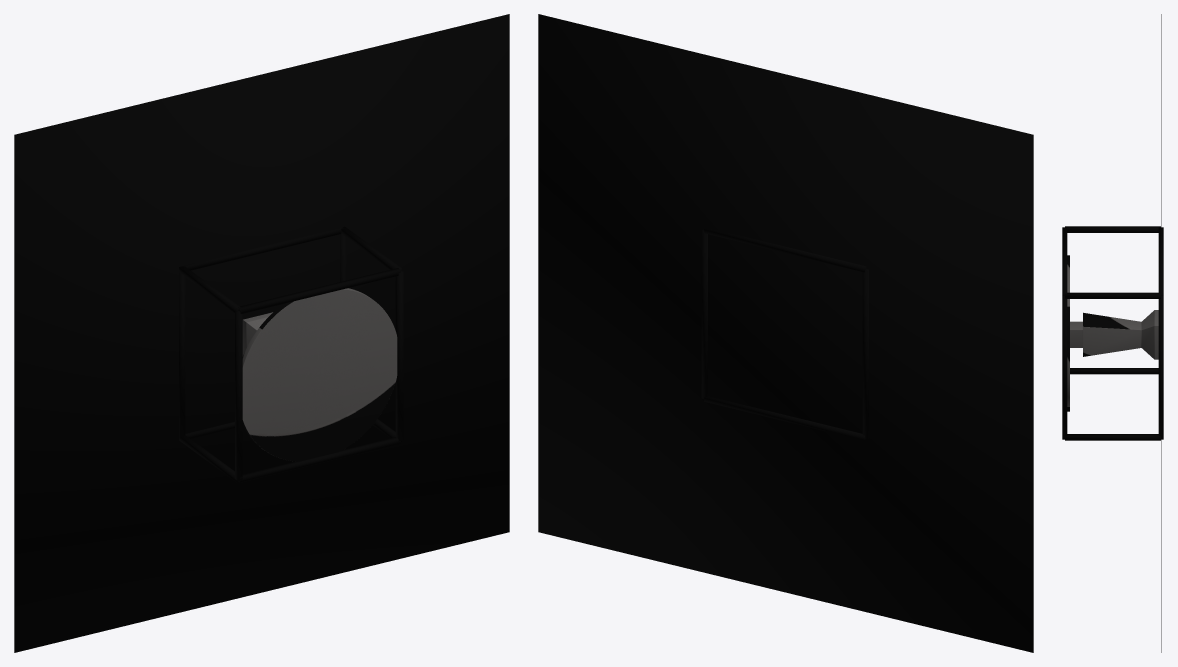
3 views of the same model, side by side, from view 1: azimuth 30°, elevation 25°; view 2: azimuth 150°, elevation 25°; view 3: azimuth 270°, elevation 25° (orthographic). The views are drawn at different scales.
Bounding box in the file's own units: 2 × 2 × 0.4202.
